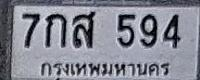4: (163, 14, 180, 48)
5: (117, 13, 136, 47)
7: (22, 12, 40, 48)
9: (140, 13, 157, 47)
A01: (45, 13, 67, 47)
A40: (72, 11, 96, 48)
BKK: (38, 58, 175, 80)
